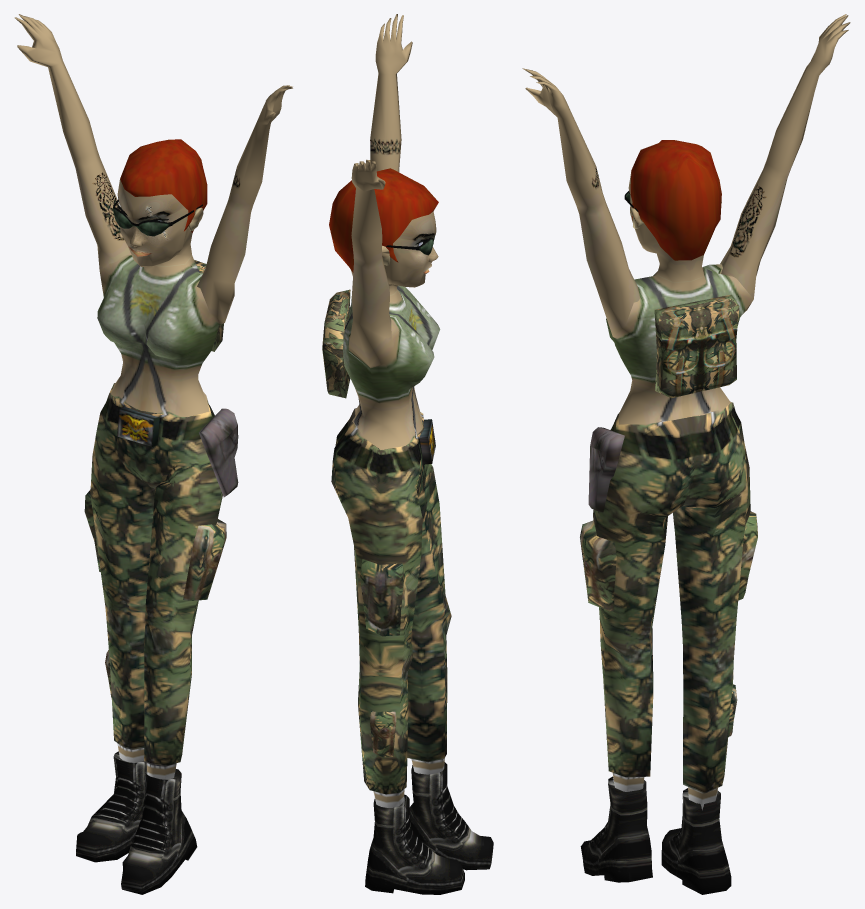
Rendered from Sarah Craft.glb.
3 views of the same model, side by side, from view 1: azimuth 30°, elevation 25°; view 2: azimuth 150°, elevation 25°; view 3: azimuth 270°, elevation 25° (orthographic). The views are drawn at different scales.
Visible parts, largest first — view 1: sarah merge; view 2: sarah merge; view 3: sarah merge.
Part boxes in pixels (bbox=[...]): sarah merge: bbox=[14, 14, 292, 894]; sarah merge: bbox=[322, 14, 493, 894]; sarah merge: bbox=[522, 14, 850, 894].
Size of the model in its own units: 1.16 by 6.02 by 2.08.
1 material, 1 textured.
